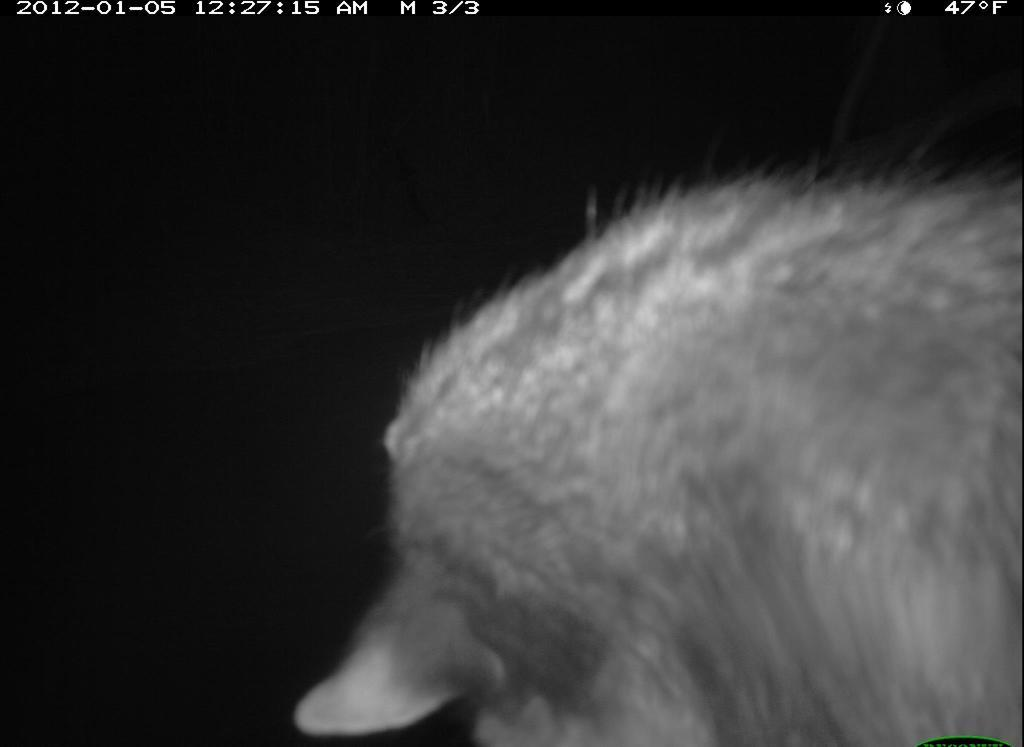raccoon: (273, 167, 1018, 747)
